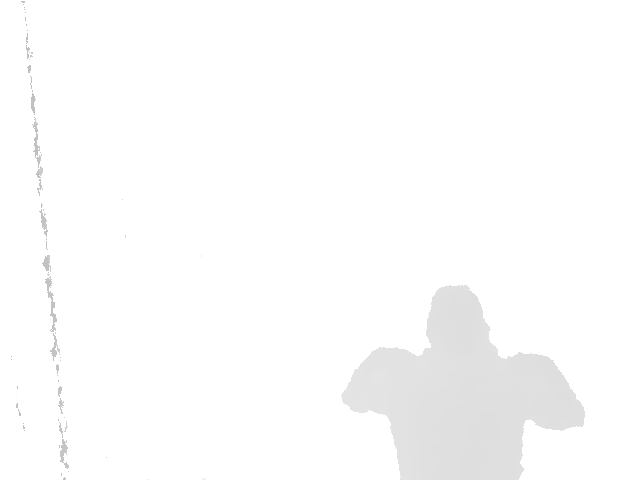head: (425, 284, 491, 360)
person: (341, 284, 586, 480)
